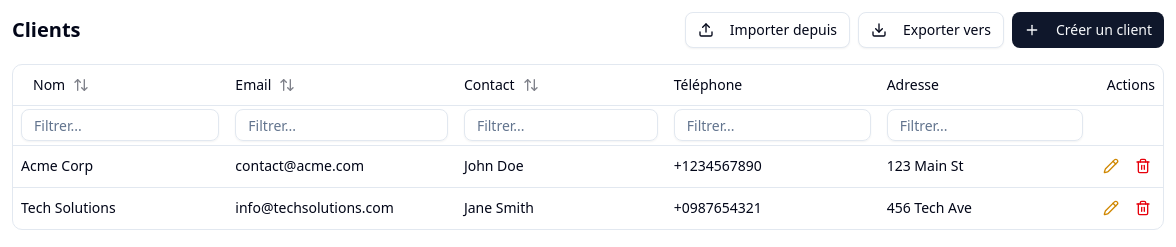
Test: Customers Component › Table Filtering and Sorting › should filter customers by name
This screenshot has width=1176, height=247.
Expected: the text "Acme Corp" is shown, [21,156,93,175]
Expected: the text "Tech Solutions" is shown, [21,198,116,217]
Get all filter inputs (one per column) and use the first one (name column)
Type "Acme" into the 1st field with placeholder "Filtrer..." at (120, 125), box [21,109,219,141]
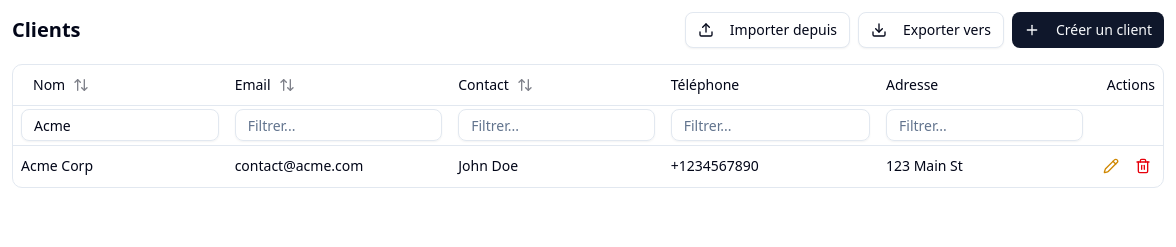
Expected: the text "Acme Corp" is shown, [21,156,93,175]
Expected: the text "Tech Solutions" is gone
